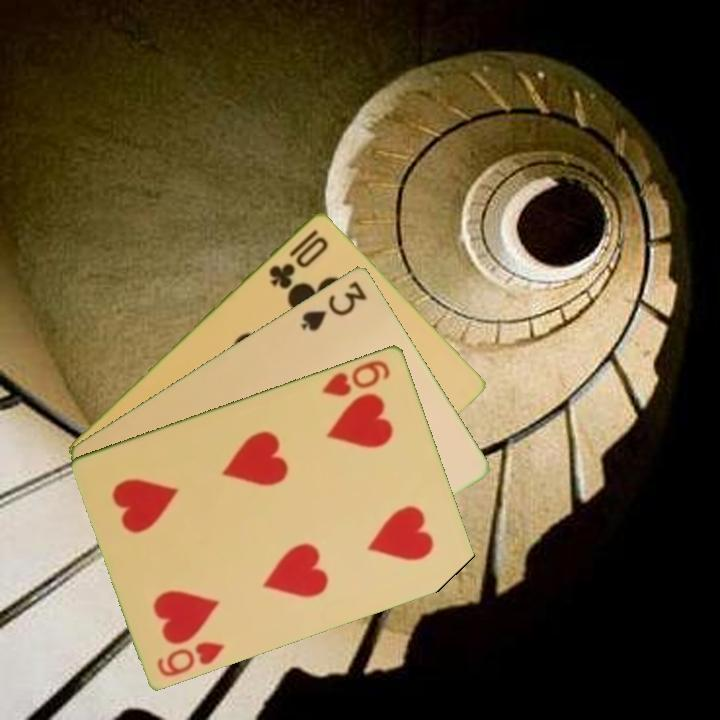10c: (265, 225, 332, 292)
3s: (298, 277, 370, 334)
6h: (318, 356, 393, 399), (153, 637, 229, 679)
